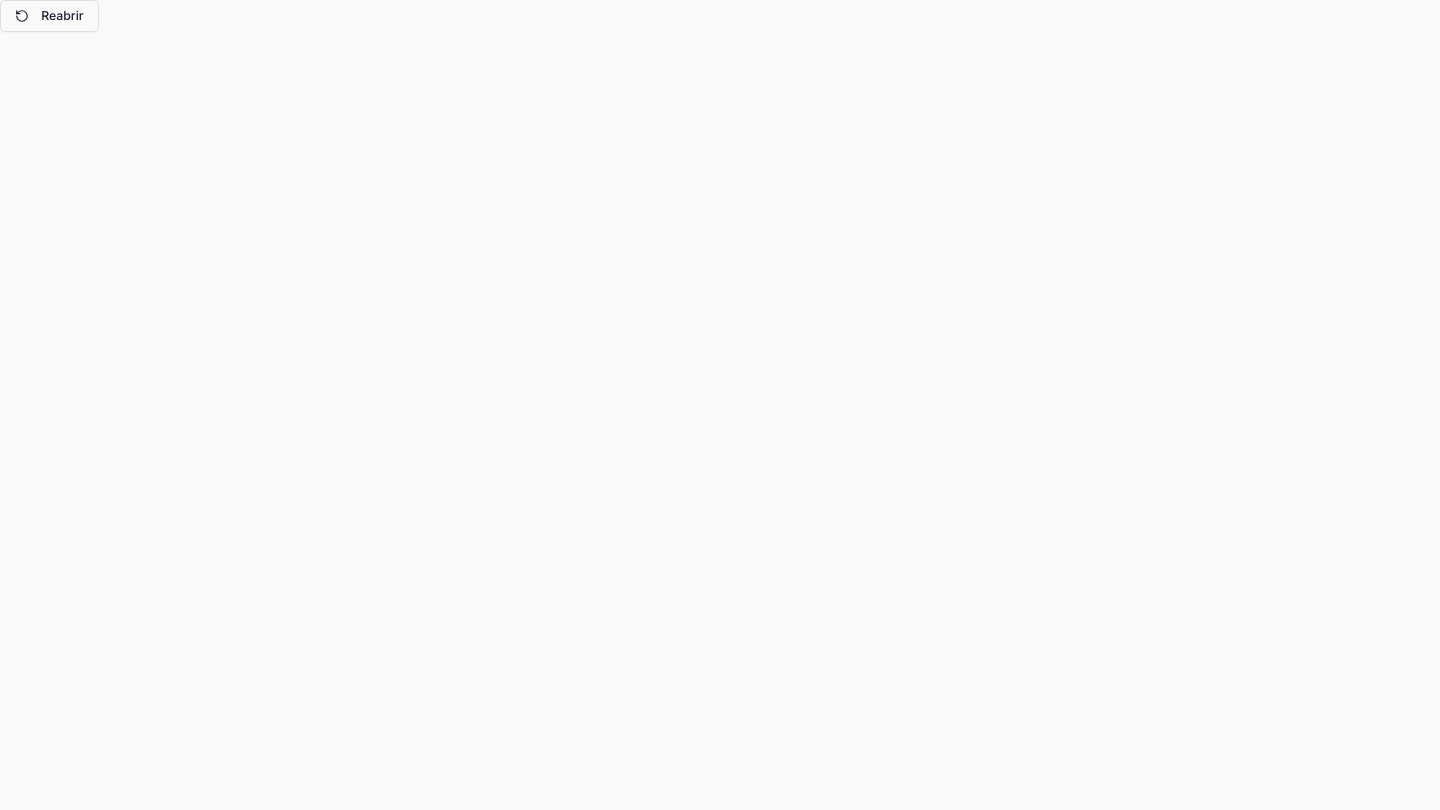
Scenario: ReabrirProcesso › para a gestão diz que volta à fila
Click the button with test id "botao-reabrir-processo" at x=49, y=16, box [0, 0, 98, 32]
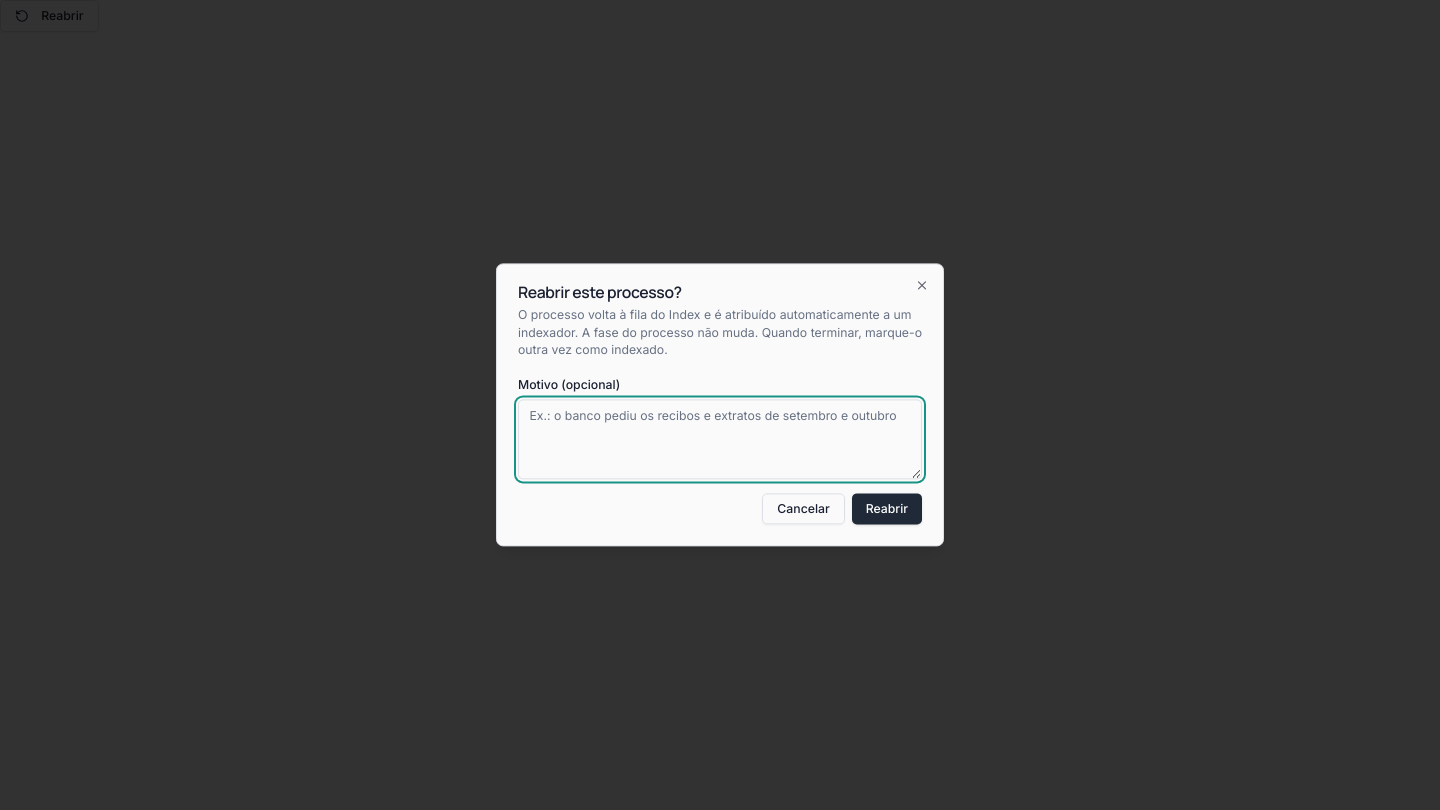
Check: the text "volta à fila do Index" is shown, box [518, 307, 912, 340]
